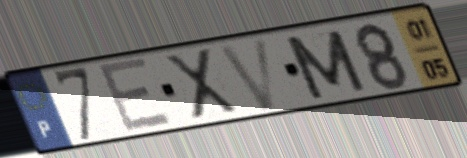7: (51, 65, 97, 144)
8: (351, 18, 410, 92)
E: (93, 55, 177, 137)
M: (280, 26, 371, 102)
V: (214, 34, 281, 114)
X: (160, 46, 243, 123)
